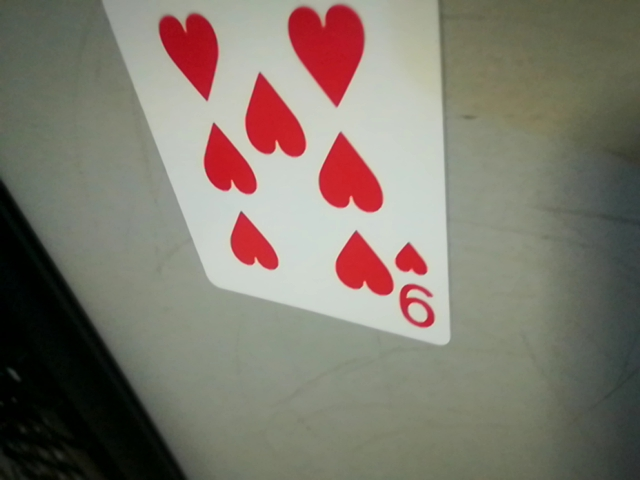hx 9: (387, 237, 446, 339)
